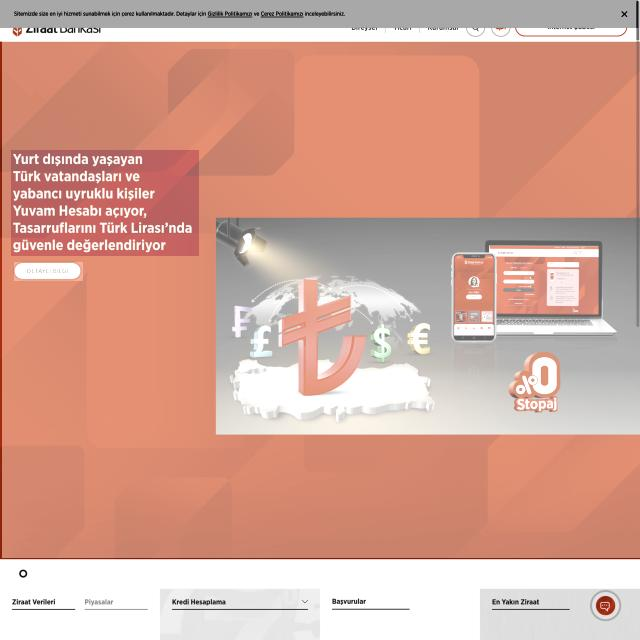CheckBox: (14, 262, 83, 281)
Input field: (11, 150, 199, 256)
card: (2, 40, 640, 558)
copy: (214, 218, 640, 434)
data feed: (25, 268, 71, 275)
header: (0, 0, 638, 28)
